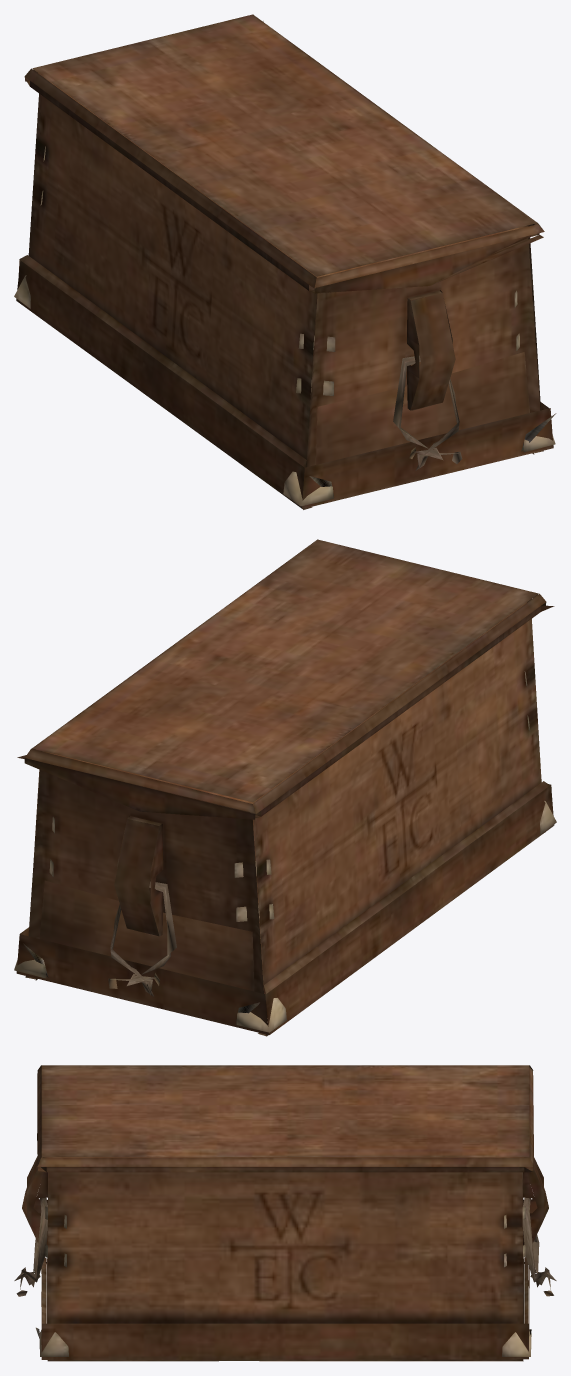
File: ph_wooden_crate_02.glb
3 views of the same model, one above another, from view 1: azimuth 30°, elevation 25°; view 2: azimuth 150°, elevation 25°; view 3: azimuth 270°, elevation 25° (orthographic). The views are drawn at different scales.
Visible parts, largest first — view 1: wooden_crate_02_crate; view 2: wooden_crate_02_crate; view 3: wooden_crate_02_crate.
Part boxes in pixels (x1,y1,x2,y2): wooden_crate_02_crate: (14, 14, 556, 509); wooden_crate_02_crate: (14, 539, 556, 1036); wooden_crate_02_crate: (14, 1065, 556, 1361).
Size of the model in its own units: 0.5291 by 0.4637 by 1.14.
1 material, 1 textured.
